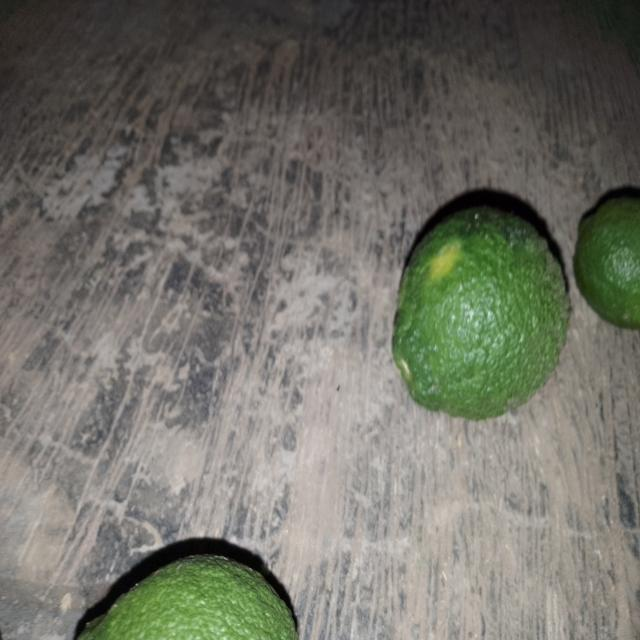Unripe: (384, 174, 584, 435), (62, 533, 310, 640)
